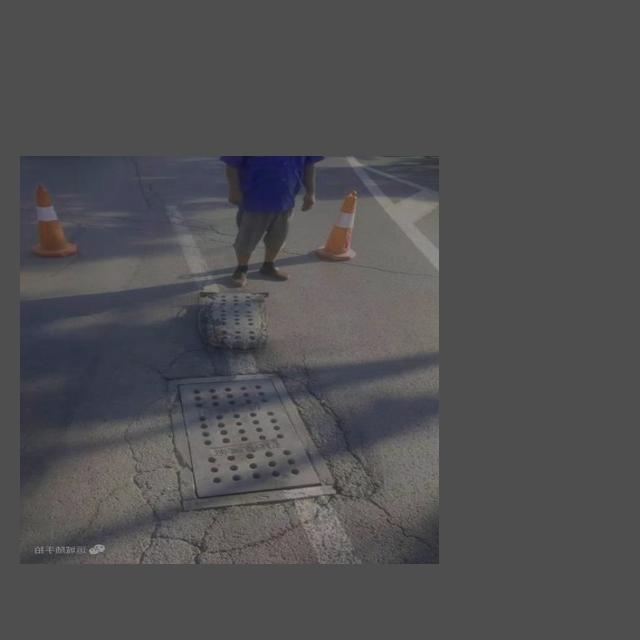circle: (115, 356, 385, 549)
